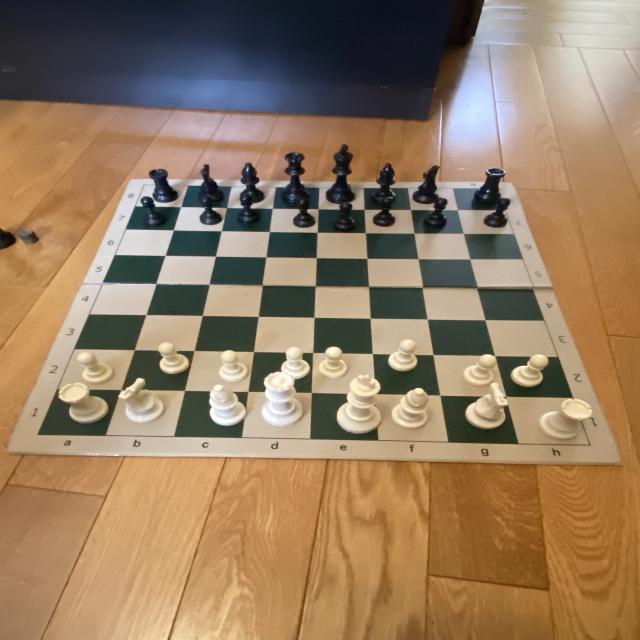Chessboard-Corners: (31, 429, 47, 441), (585, 441, 598, 451), (492, 184, 504, 194), (137, 182, 150, 188)
